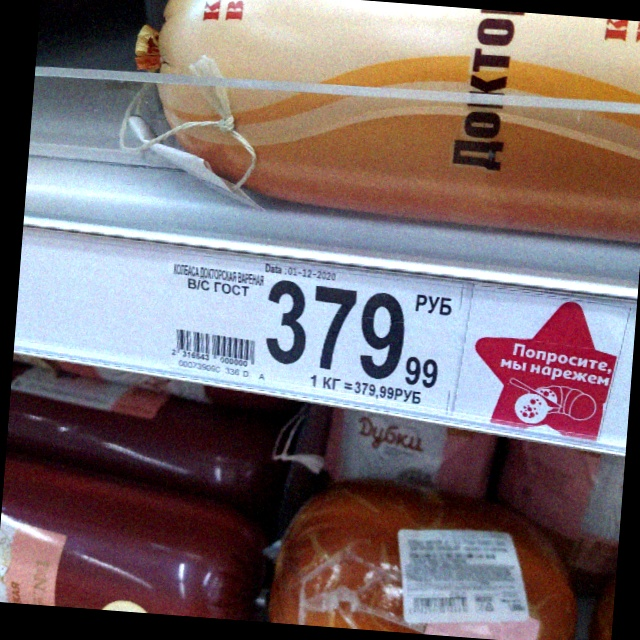barcode: (170, 328, 256, 366)
name: (170, 261, 266, 299)
price: (265, 278, 443, 393)
price_tag: (167, 246, 473, 418)
